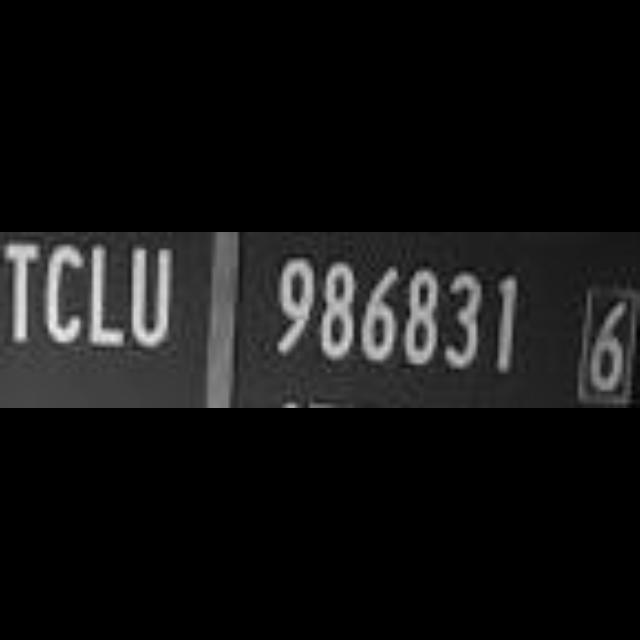1: (493, 272, 522, 378)
3: (444, 266, 484, 370)
6: (582, 298, 640, 402), (361, 260, 404, 364)
8: (316, 256, 362, 366), (404, 264, 438, 368)
9: (270, 252, 318, 356)
c: (44, 242, 86, 352)
l: (89, 240, 130, 352)
t: (0, 232, 42, 352)
u: (128, 240, 174, 354)
